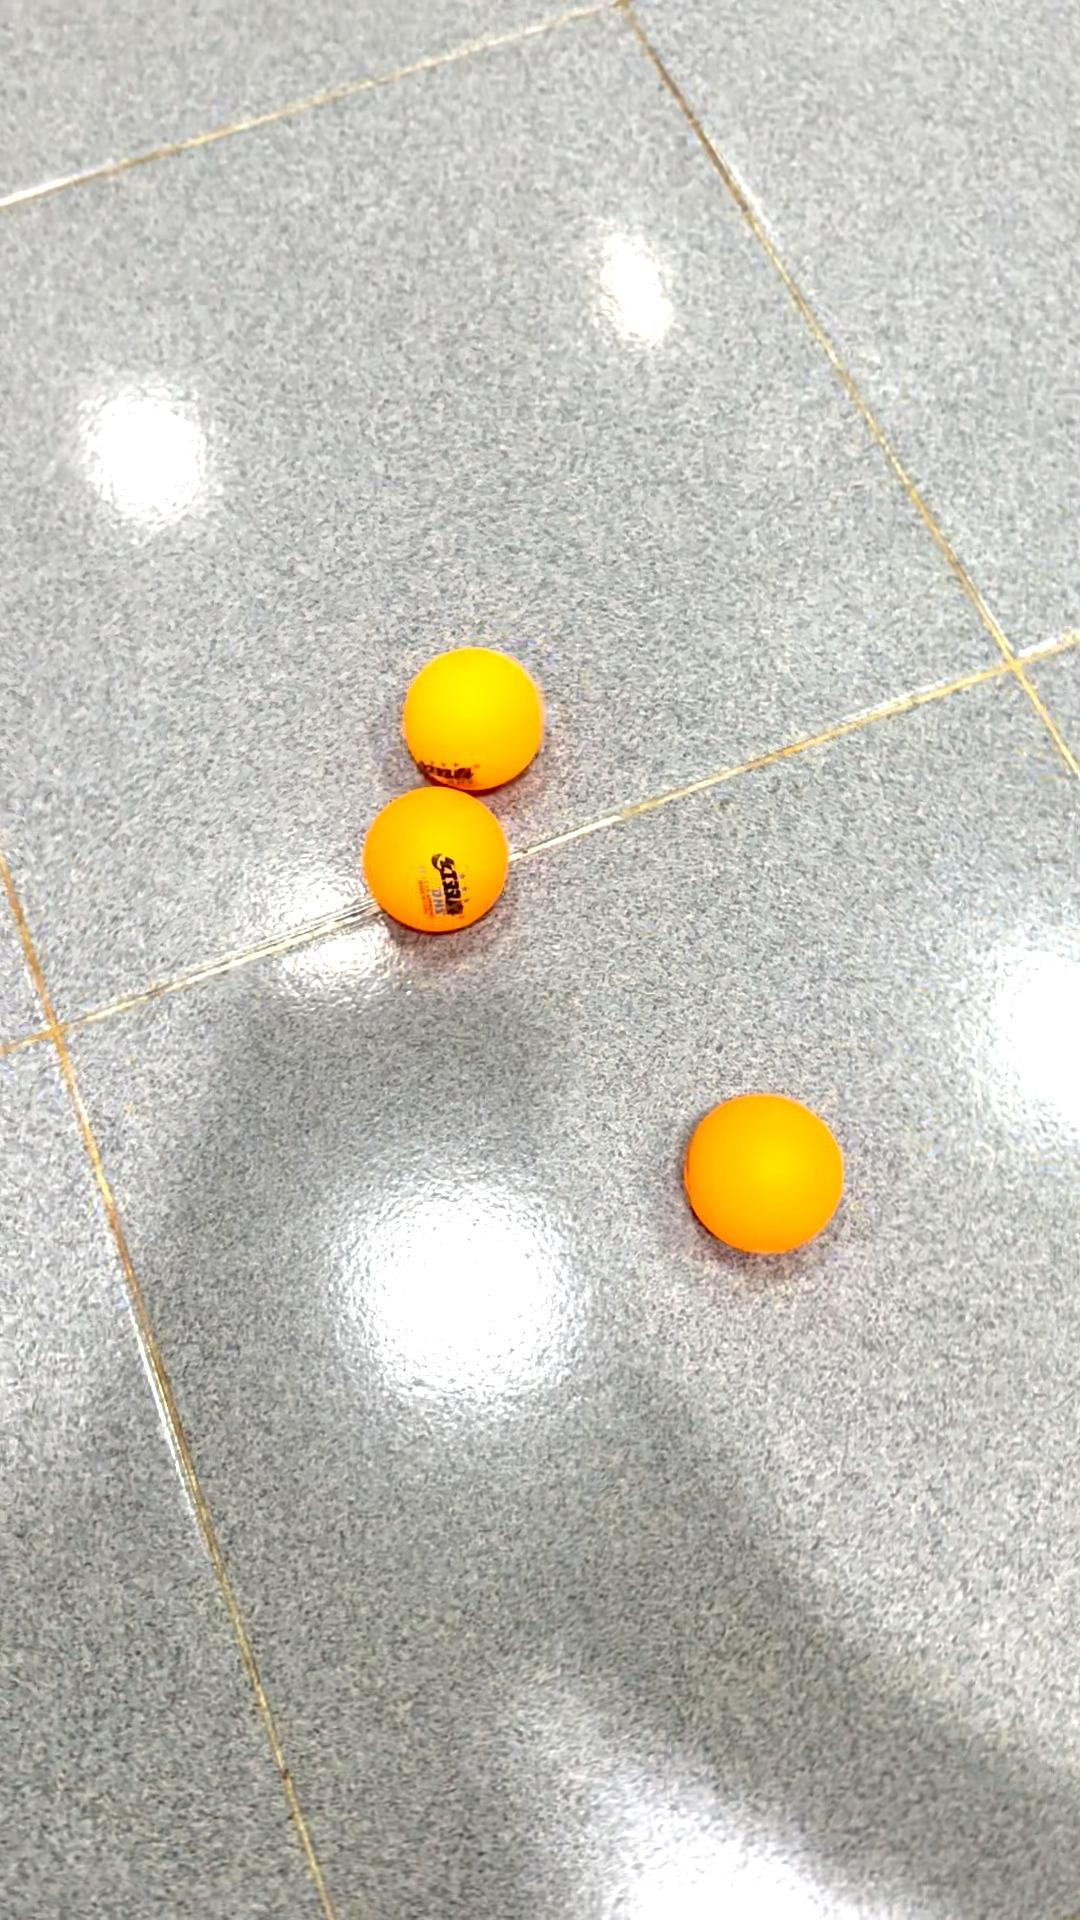oball: (678, 1088, 861, 1269), (348, 785, 535, 945), (392, 645, 564, 798)
